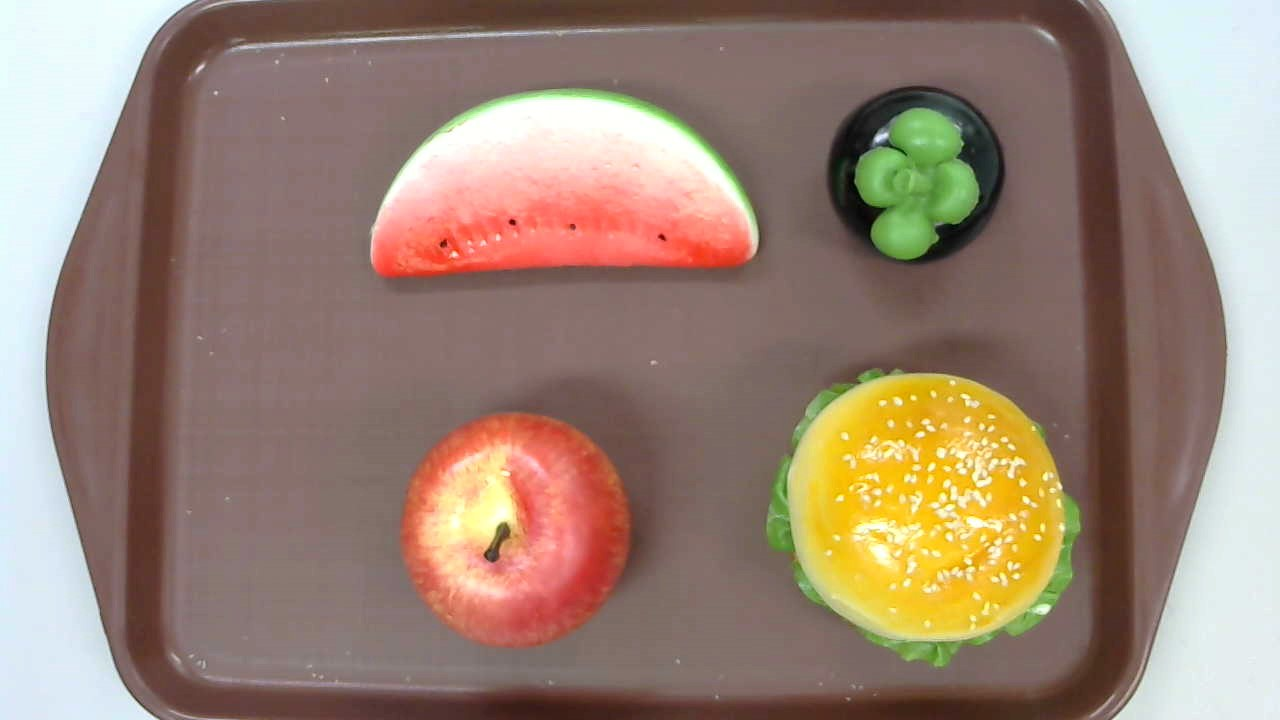hamburger: (765, 365, 1085, 668)
mangosteen: (825, 84, 1010, 265)
red apple: (400, 411, 633, 650)
watermelon: (368, 87, 760, 279)
